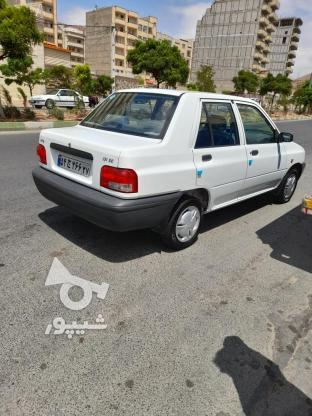car: (56, 154, 90, 178)
